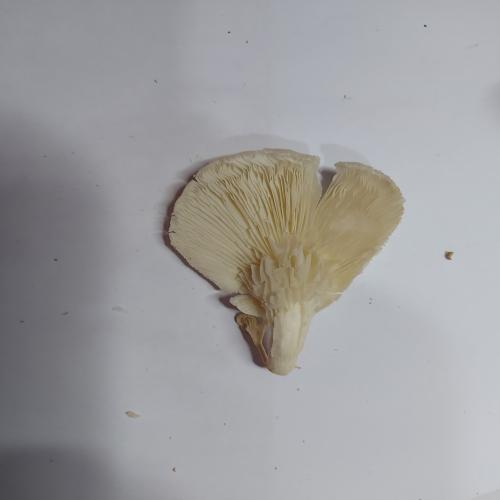Oyster Mushroom: (166, 147, 406, 376)
